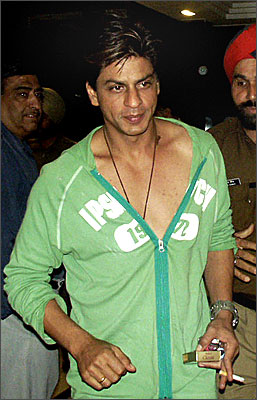cigarette: (218, 363, 249, 384)
